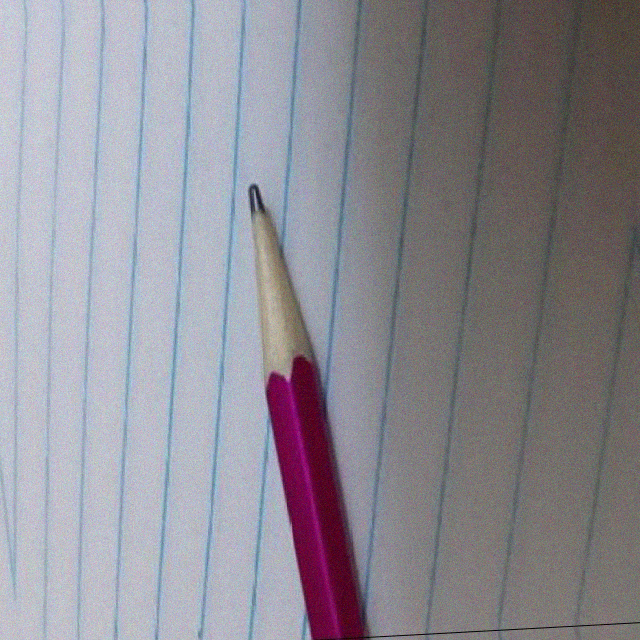pencil: (224, 173, 315, 389)
